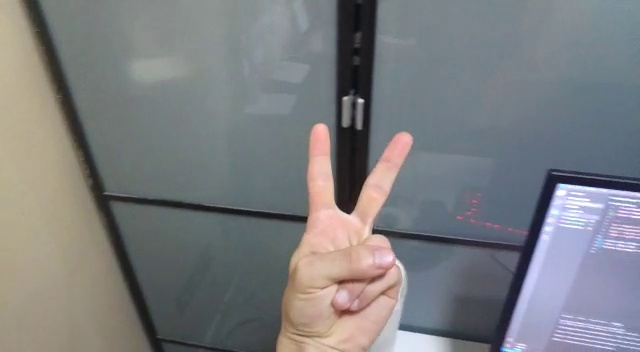Peace: (271, 121, 420, 350)
